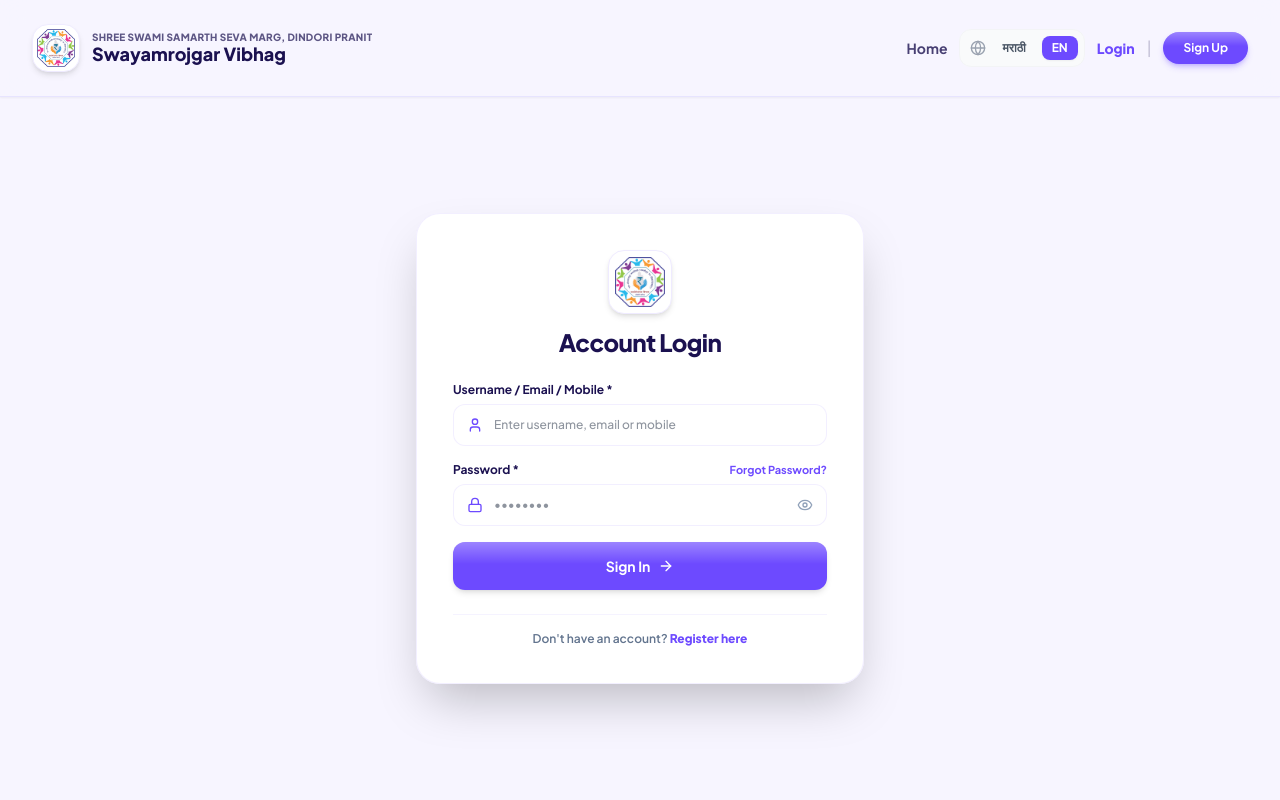
Test: Login › shows the fallback login error when no backend message is present
Type "asha@example.com" into the field labelled "Username / Email / Mobile *" at (640,425), box [453,404,827,446]
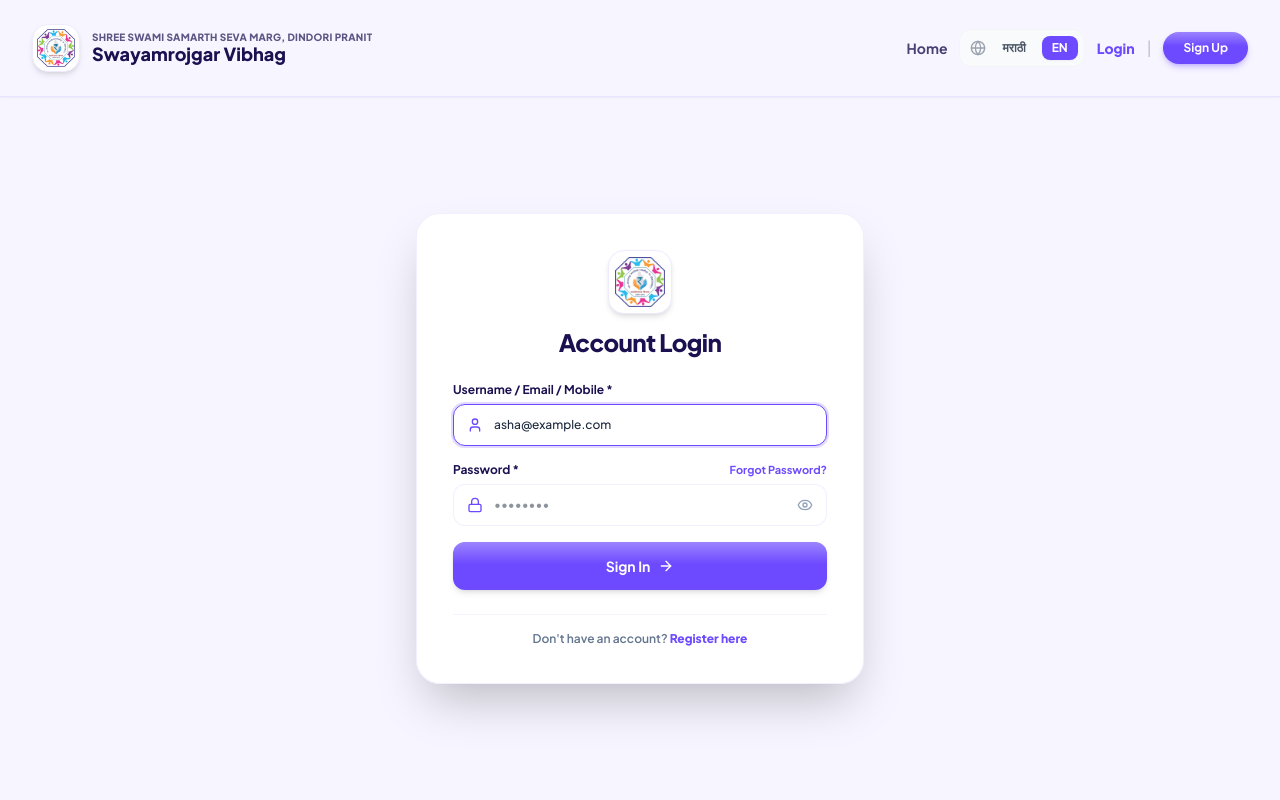
Type "wrong" into the password field labelled "Password *" at (640,505), box [453,484,827,526]
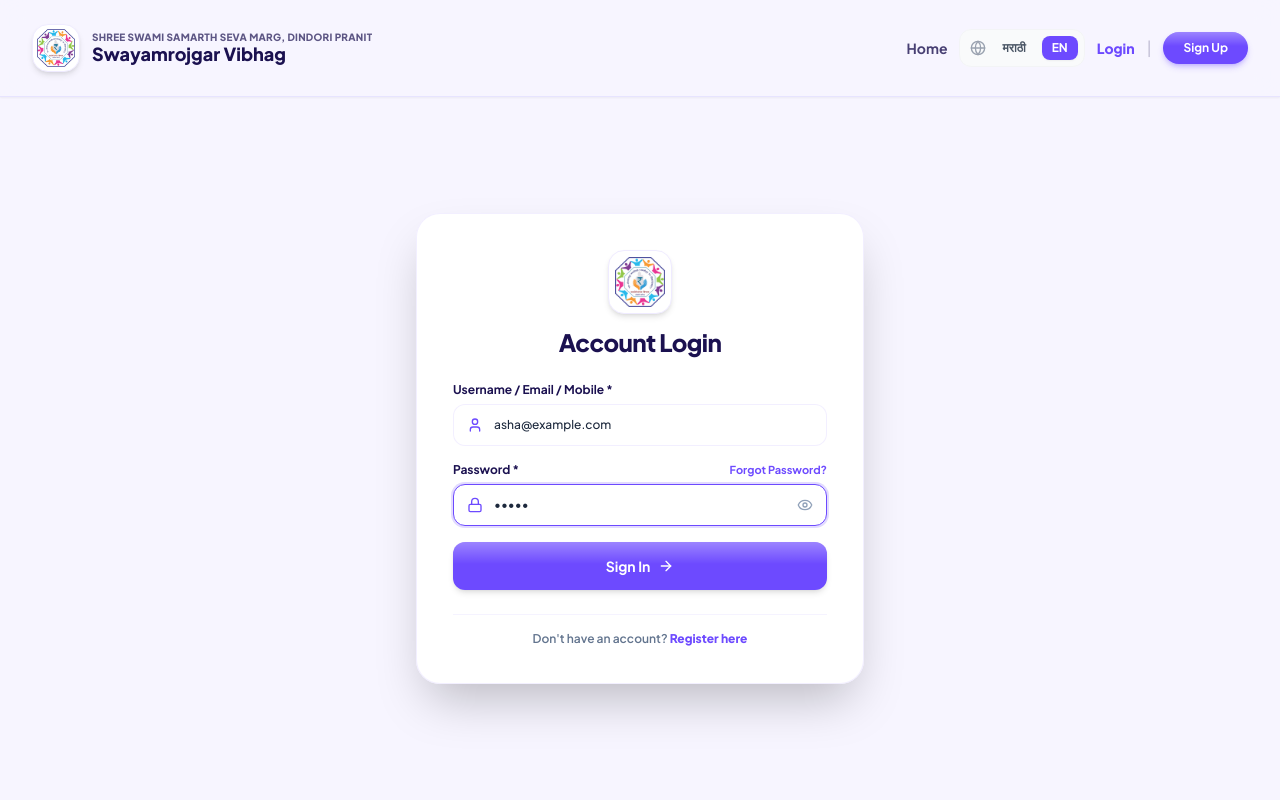
Click the button "Sign In" at (640,566), box [453,542,827,590]
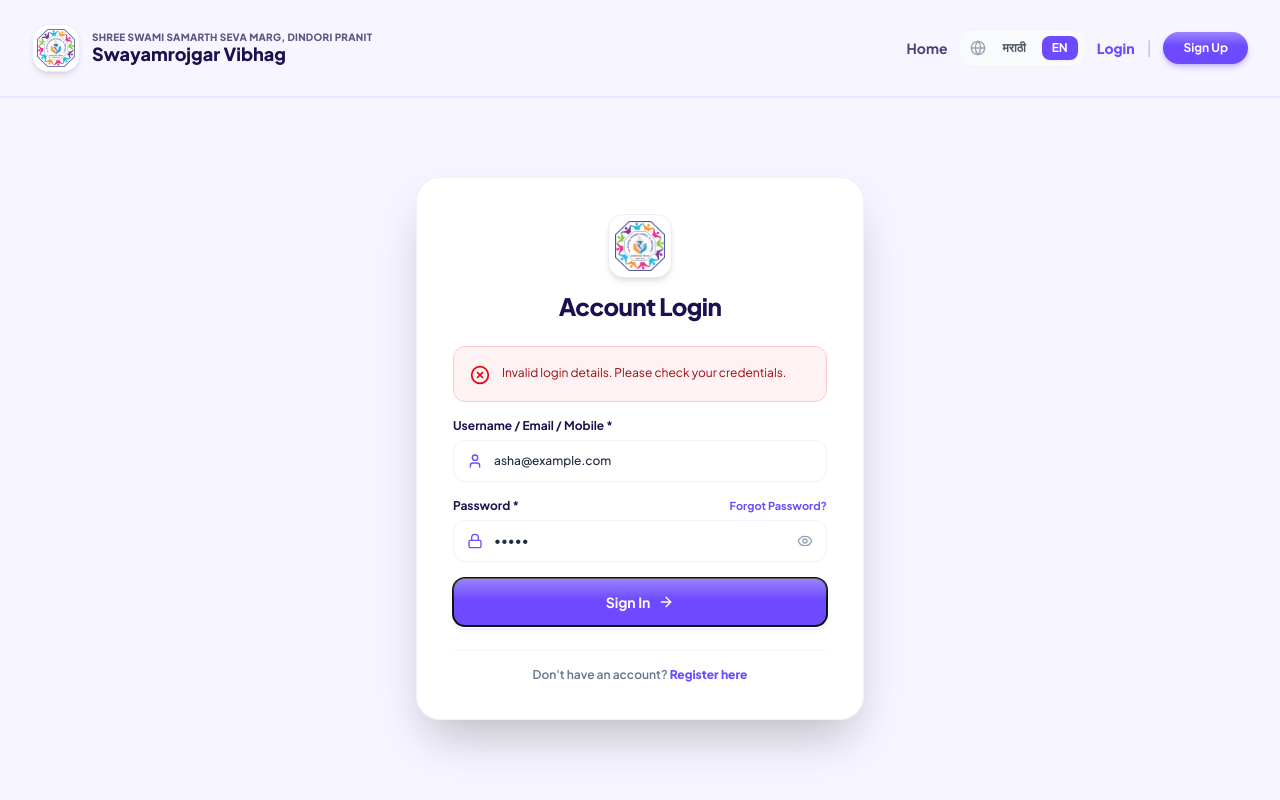
Result: the text "Invalid login details. Please check your credentials." is shown at [502,363,810,382]
